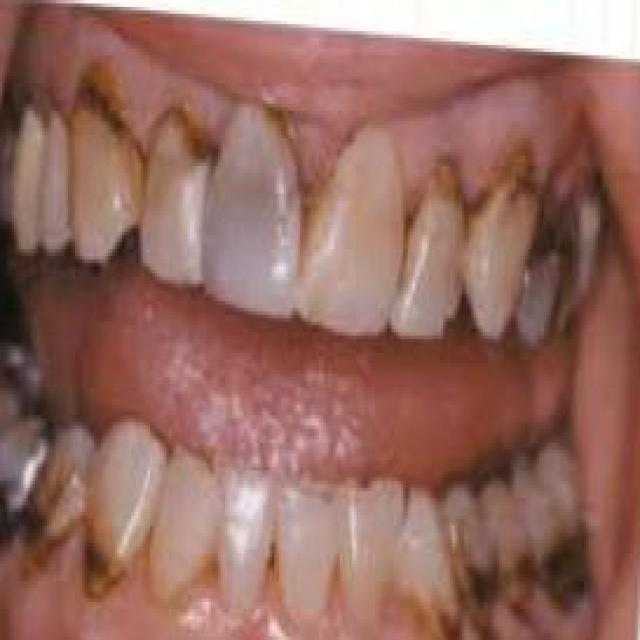caries: (516, 160, 585, 292), (63, 53, 134, 157), (406, 140, 474, 244), (469, 121, 535, 227), (539, 511, 599, 613), (11, 482, 70, 574), (162, 100, 226, 177), (78, 507, 132, 598), (456, 544, 505, 635), (502, 530, 542, 620), (420, 579, 469, 640)
